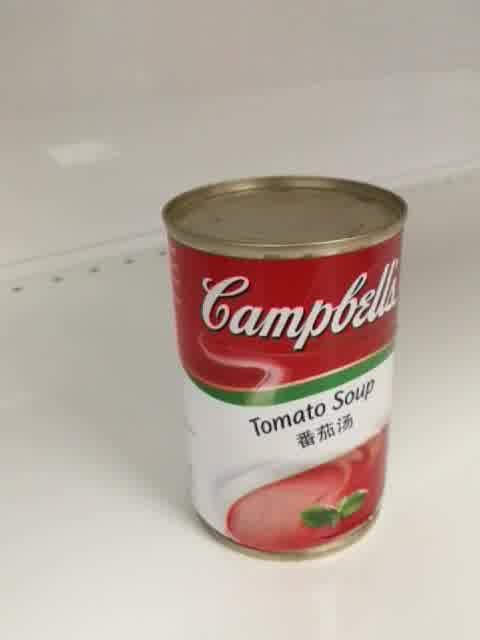tomatosoup: (161, 174, 410, 566)
